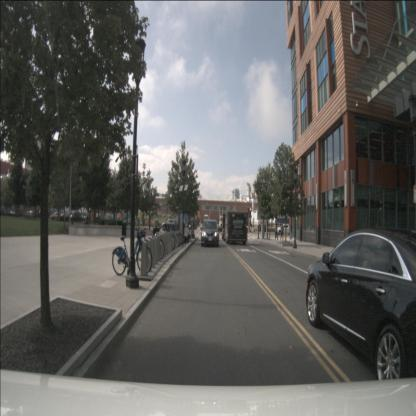human-pedestrian-adult: (280, 223, 284, 242), (274, 224, 278, 240)
vehicle-car: (306, 228, 416, 388), (201, 220, 219, 248), (276, 224, 290, 235), (74, 212, 88, 222), (162, 219, 176, 228), (58, 213, 70, 222), (50, 212, 62, 221), (24, 211, 35, 218)
vehicle-truck: (221, 212, 249, 245)
